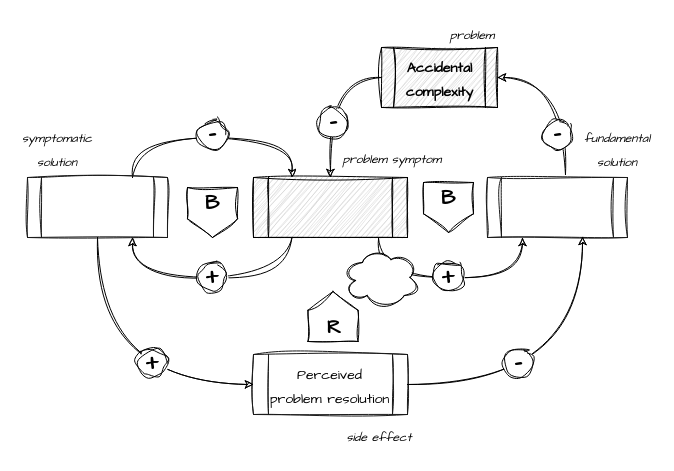
Image size: 674x471. Some labels were removed from this diagram. Here are the shapes that lost their labels. From the top down, the centre of each, then its label:
At (x=97, y=207): "Throw tech at the problem".
At (x=330, y=207): "Platform's value delivery rate slow down".
At (x=557, y=207): "Modularize the architecture".
At (x=381, y=277): "deley".
